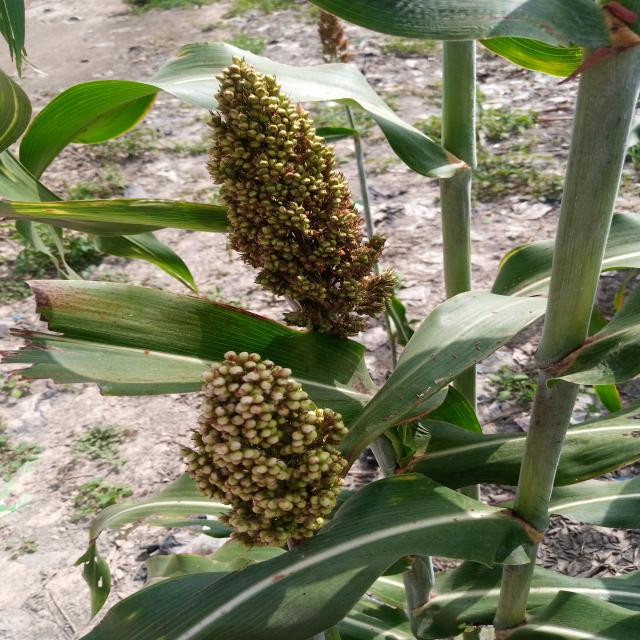UnripeSorghum: (174, 46, 485, 342), (165, 345, 405, 554)
